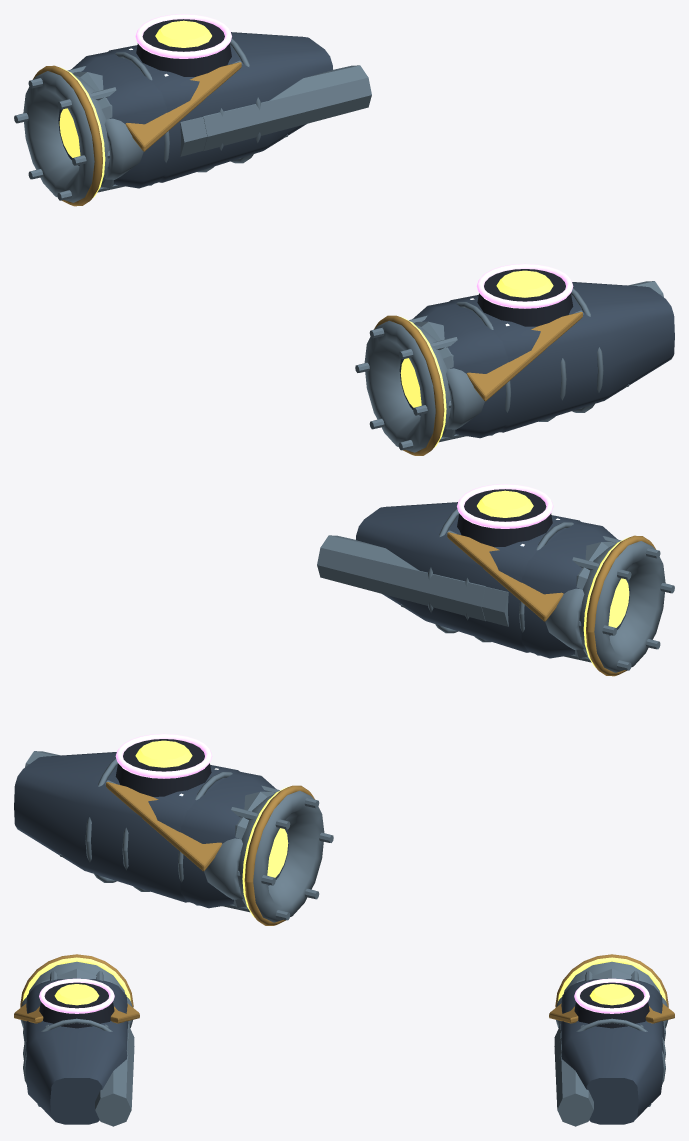
Rendered from engine.glb.
3 renders of one model, top to bottom at view 1: azimuth 30°, elevation 25°; view 2: azimuth 150°, elevation 25°; view 3: azimuth 270°, elevation 25°, orthographic. The views are drawn at different scales.
Parts seen in each view (by area): view 1: e_twin Fitting gunmetal, e_nova Brushed fitting edges, e_twin Brushed fitting edges, e_nova Fitting gunmetal, e_nova Champagne gold edging, e_fusion Machined graphite, e_fusion e_fusion emitter, e_fusion Fusion amber core, e_ion Brushed fitting edges, e_nova e_nova emitter, e_fusion Brushed fitting edges; view 2: e_twin Fitting gunmetal, e_nova Brushed fitting edges, e_twin Brushed fitting edges, e_nova Fitting gunmetal, e_nova Champagne gold edging, e_fusion Machined graphite, e_fusion e_fusion emitter, e_fusion Fusion amber core, e_ion Brushed fitting edges, e_nova e_nova emitter, e_fusion Brushed fitting edges; view 3: e_twin Fitting gunmetal, e_twin Brushed fitting edges, e_fusion Machined graphite, e_nova Champagne gold edging, e_nova Brushed fitting edges, e_fusion e_fusion emitter, e_fusion Fusion amber core, e_nova e_nova emitter, e_ion Brushed fitting edges, e_nova Fitting gunmetal, e_fusion Brushed fitting edges.
Part boxes in pixels (<box>): e_twin Fitting gunmetal: <box>107,32,674,432</box>; e_nova Brushed fitting edges: <box>14,66,466,452</box>; e_twin Brushed fitting edges: <box>104,60,663,429</box>; e_nova Fitting gunmetal: <box>58,52,508,438</box>; e_nova Champagne gold edging: <box>32,62,582,455</box>; e_fusion Machined graphite: <box>136,19,573,326</box>; e_fusion e_fusion emitter: <box>135,14,573,308</box>; e_fusion Fusion amber core: <box>155,20,553,297</box>; e_ion Brushed fitting edges: <box>115,38,603,435</box>; e_nova e_nova emitter: <box>59,67,446,447</box>; e_fusion Brushed fitting edges: <box>73,72,629,438</box>; e_twin Fitting gunmetal: <box>14,502,581,902</box>; e_nova Brushed fitting edges: <box>222,536,674,922</box>; e_twin Brushed fitting edges: <box>25,530,584,899</box>; e_nova Fitting gunmetal: <box>180,522,630,908</box>; e_nova Champagne gold edging: <box>106,532,656,925</box>; e_fusion Machined graphite: <box>115,489,552,796</box>; e_fusion e_fusion emitter: <box>115,484,553,778</box>; e_fusion Fusion amber core: <box>135,490,533,767</box>; e_ion Brushed fitting edges: <box>85,508,573,905</box>; e_nova e_nova emitter: <box>242,537,629,917</box>; e_fusion Brushed fitting edges: <box>59,542,615,908</box>; e_twin Fitting gunmetal: <box>24,993,664,1124</box>; e_twin Brushed fitting edges: <box>20,997,668,1126</box>; e_fusion Machined graphite: <box>39,982,649,1028</box>; e_nova Champagne gold edging: <box>14,954,674,1023</box>; e_nova Brushed fitting edges: <box>28,961,660,1045</box>; e_fusion e_fusion emitter: <box>39,978,649,1013</box>; e_fusion Fusion amber core: <box>54,984,634,1005</box>; e_nova e_nova emitter: <box>22,957,666,1001</box>; e_ion Brushed fitting edges: <box>23,1018,665,1084</box>; e_nova Fitting gunmetal: <box>26,979,662,1008</box>; e_fusion Brushed fitting edges: <box>37,969,651,1106</box>.
Bounding box in the file's own units: 15.81 × 7.34 × 39.52.
